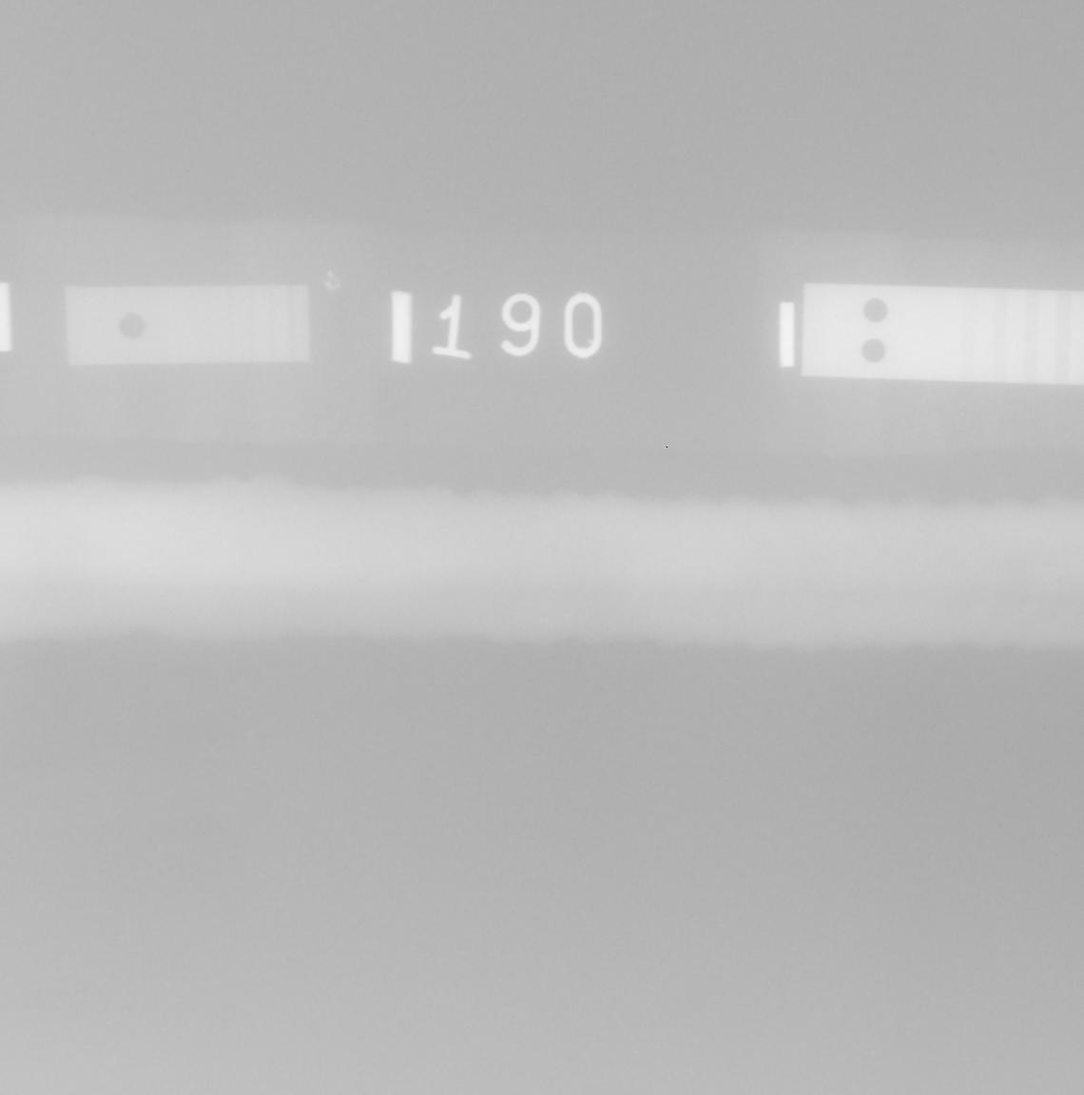Pore/Porosity: (919, 568, 928, 576), (1055, 577, 1062, 583), (1041, 580, 1047, 586), (370, 502, 375, 506), (362, 499, 366, 504)
Reference Standard 1: (65, 285, 310, 365)
